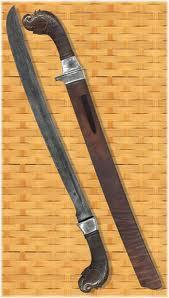espada: (14, 0, 168, 297), (0, 0, 118, 297)
